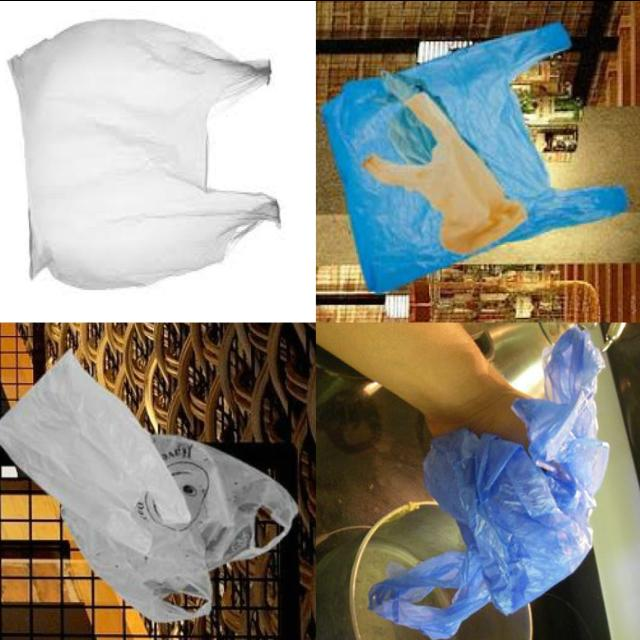plastik: (322, 22, 628, 291), (370, 327, 609, 639), (12, 18, 279, 288), (65, 435, 298, 621), (0, 352, 191, 554), (364, 76, 528, 253)
